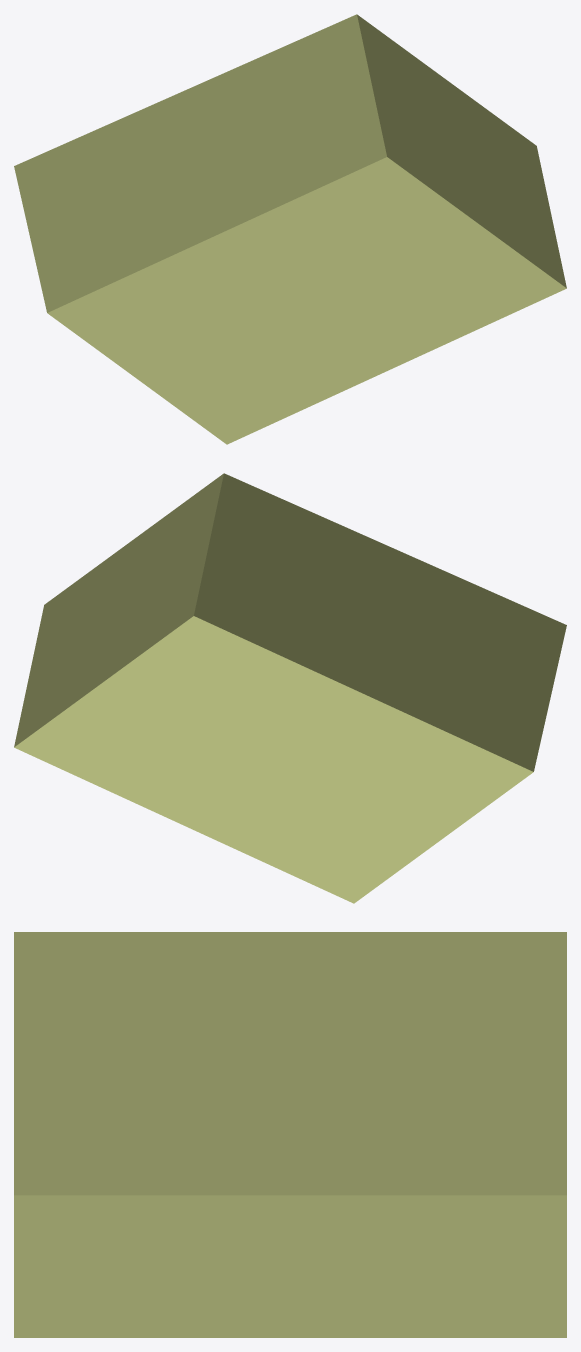
3 renders of one model, top to bottom at view 1: azimuth 30°, elevation 25°; view 2: azimuth 150°, elevation 25°; view 3: azimuth 270°, elevation 25°, orthographic. The views are drawn at different scales.
Parts seen in each view (by area): view 1: 0_1_2_0_3_3_0_3_0_2_2; view 2: 0_1_2_0_3_3_0_3_0_2_2; view 3: 0_1_2_0_3_3_0_3_0_2_2.
Boxes of the visible parts, bbox=[...] form: 0_1_2_0_3_3_0_3_0_2_2: bbox=[14, 14, 566, 444]; 0_1_2_0_3_3_0_3_0_2_2: bbox=[14, 473, 566, 903]; 0_1_2_0_3_3_0_3_0_2_2: bbox=[14, 932, 566, 1337].
Size of the model in its own units: 10.78 by 6.17 by 9.
